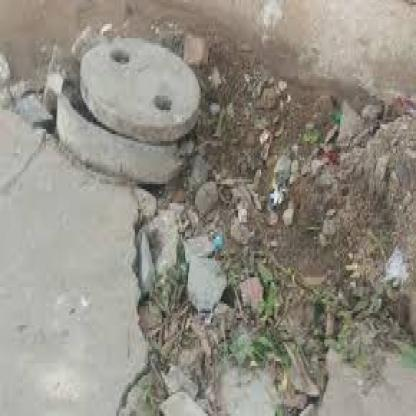closed manhole-not overflowing-: (32, 34, 227, 218)
